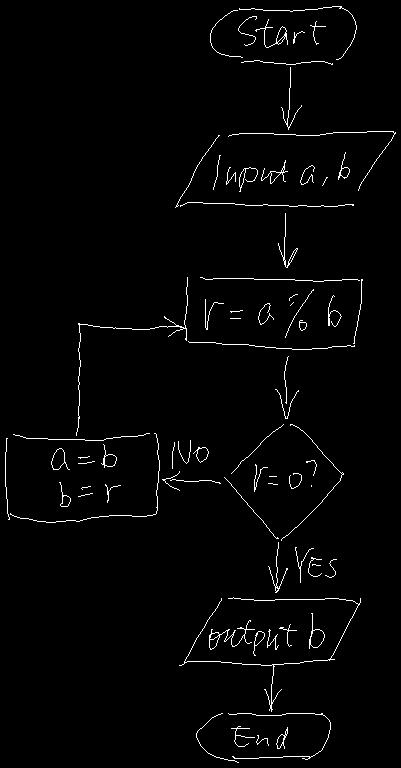arrow: (76, 316, 186, 435), (275, 356, 298, 418), (281, 67, 301, 129), (162, 471, 220, 490), (278, 213, 297, 267), (268, 542, 287, 592), (264, 665, 281, 711)
data: (175, 131, 395, 207), (179, 597, 360, 665)
decision: (224, 424, 343, 540)
process: (5, 433, 159, 522), (184, 277, 362, 349)
terminator: (210, 6, 356, 64), (196, 713, 330, 762)
text: (205, 289, 341, 337), (213, 152, 349, 191), (209, 613, 324, 655), (51, 444, 120, 506), (238, 16, 325, 47), (254, 460, 316, 491), (295, 547, 336, 582), (231, 726, 287, 748), (172, 440, 208, 468)
